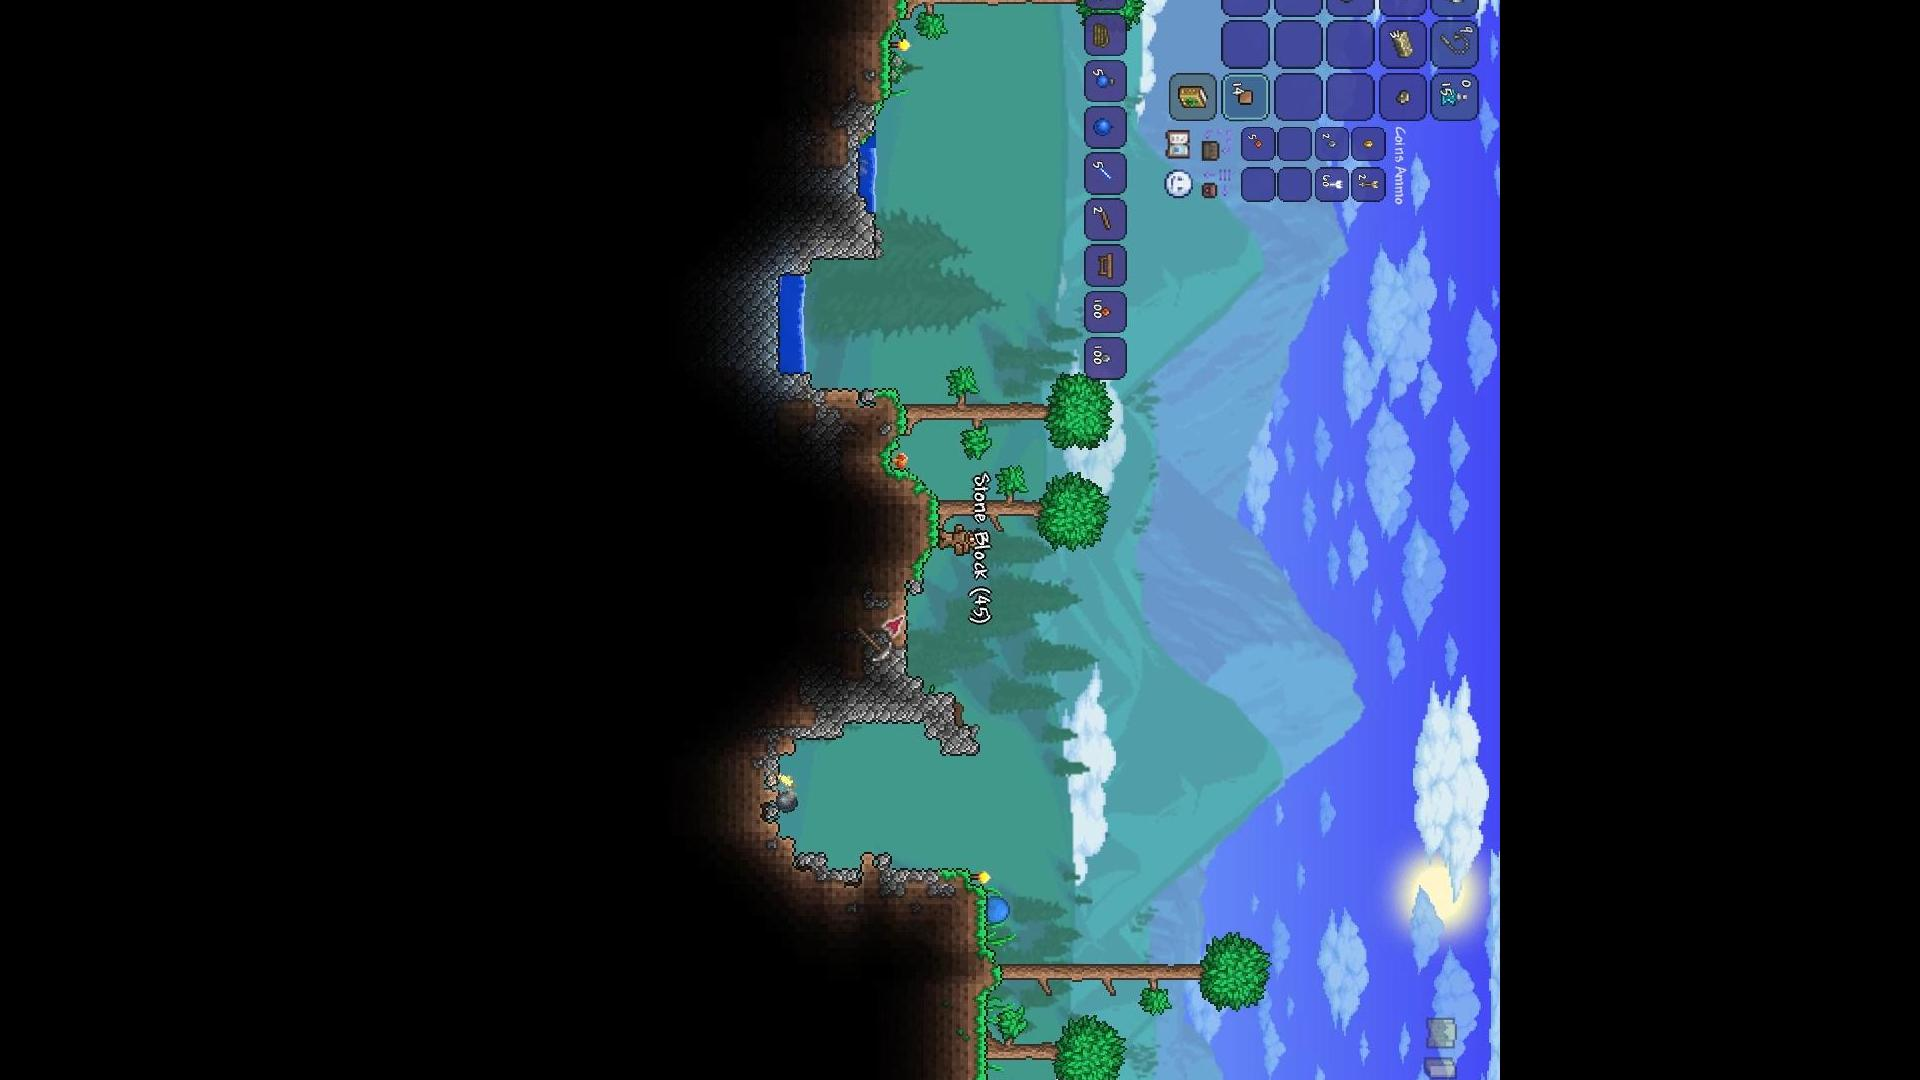dirt: (945, 873, 988, 1080), (861, 385, 914, 527), (897, 475, 939, 572), (858, 3, 894, 109)
